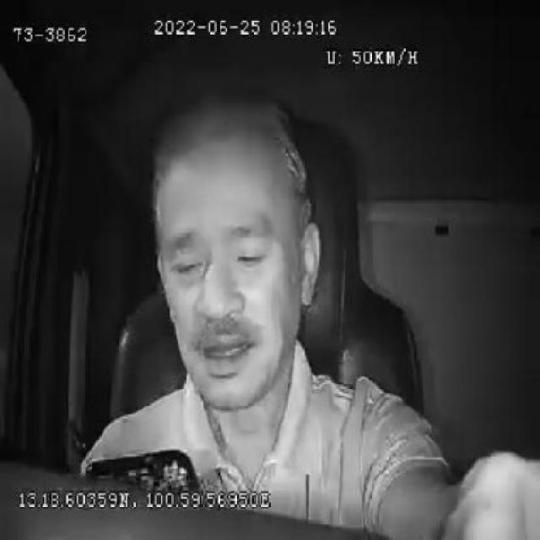phone: (86, 446, 203, 490)
